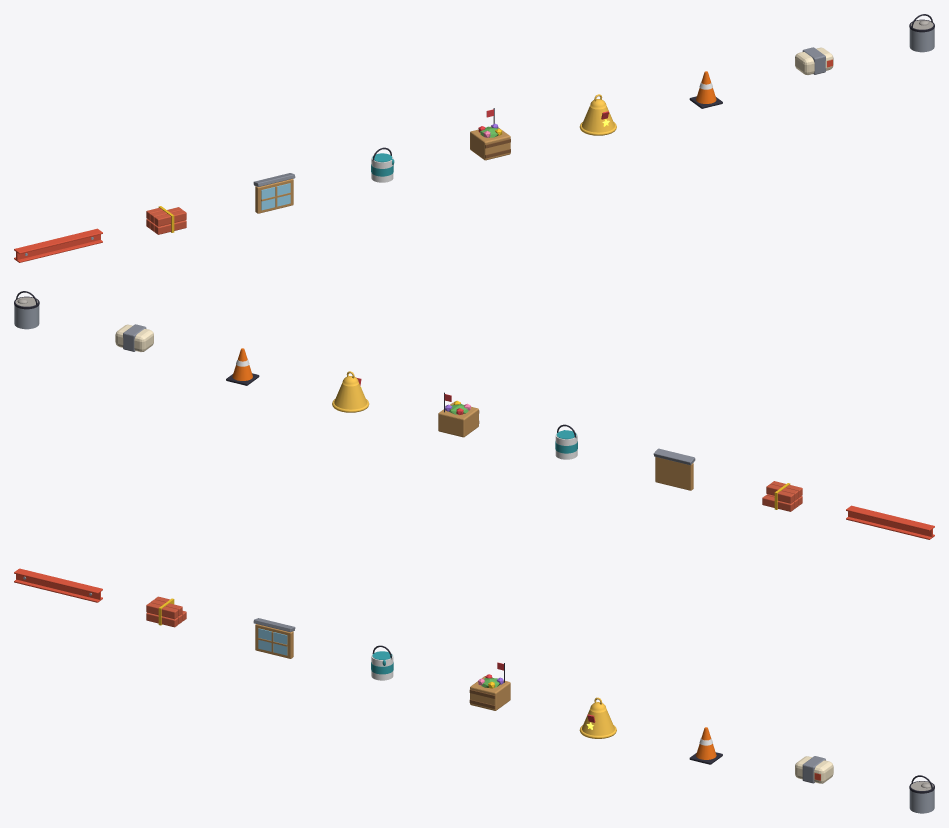
Rendered from pieces.bb15262c.glb.
3 views of the same model, one above another, from view 1: azimuth 30°, elevation 25°; view 2: azimuth 150°, elevation 25°; view 3: azimuth 330°, elevation 25° (orthographic).
Visible parts, largest first — view 1: Piece_beam__T_beam, Piece_bell__T_gold, Piece_brick__T_brick, Piece_decor__T_wood, Piece_panel__T_wood, Piece_panel__T_glass, Piece_concrete__T_steel, Piece_cement__T_cream; view 2: Piece_beam__T_beam, Piece_panel__T_wood, Piece_bell__T_gold, Piece_decor__T_wood, Piece_brick__T_brick, Piece_cement__T_cream, Piece_concrete__T_steel; view 3: Piece_beam__T_beam, Piece_bell__T_gold, Piece_brick__T_brick, Piece_decor__T_wood, Piece_panel__T_wood, Piece_panel__T_glass, Piece_cement__T_cream, Piece_concrete__T_steel.
Part boxes in pixels (x1,y1,x2,y2): Piece_beam__T_beam: (14,228,102,262); Piece_bell__T_gold: (579,94,616,135); Piece_brick__T_brick: (146,207,186,234); Piece_decor__T_wood: (470,126,510,160); Piece_panel__T_wood: (255,178,293,213); Piece_panel__T_glass: (261,183,290,210); Piece_concrete__T_steel: (909,28,934,52); Piece_cement__T_cream: (795,47,833,74); Piece_beam__T_beam: (846,505,934,539); Piece_panel__T_wood: (655,457,693,490); Piece_bell__T_gold: (332,371,369,412); Piece_decor__T_wood: (438,402,478,437); Piece_brick__T_brick: (762,481,802,511); Piece_cement__T_cream: (115,324,153,351); Piece_concrete__T_steel: (14,305,39,329); Piece_beam__T_beam: (14,568,102,602); Piece_bell__T_gold: (579,697,616,738); Piece_brick__T_brick: (146,596,186,627); Piece_decor__T_wood: (470,676,510,710); Piece_panel__T_wood: (255,624,293,658); Piece_panel__T_glass: (258,628,287,655); Piece_cement__T_cream: (795,756,833,783); Piece_concrete__T_steel: (909,789,934,813).
Size of the model in its own units: 15.28 by 0.7 by 0.54.
